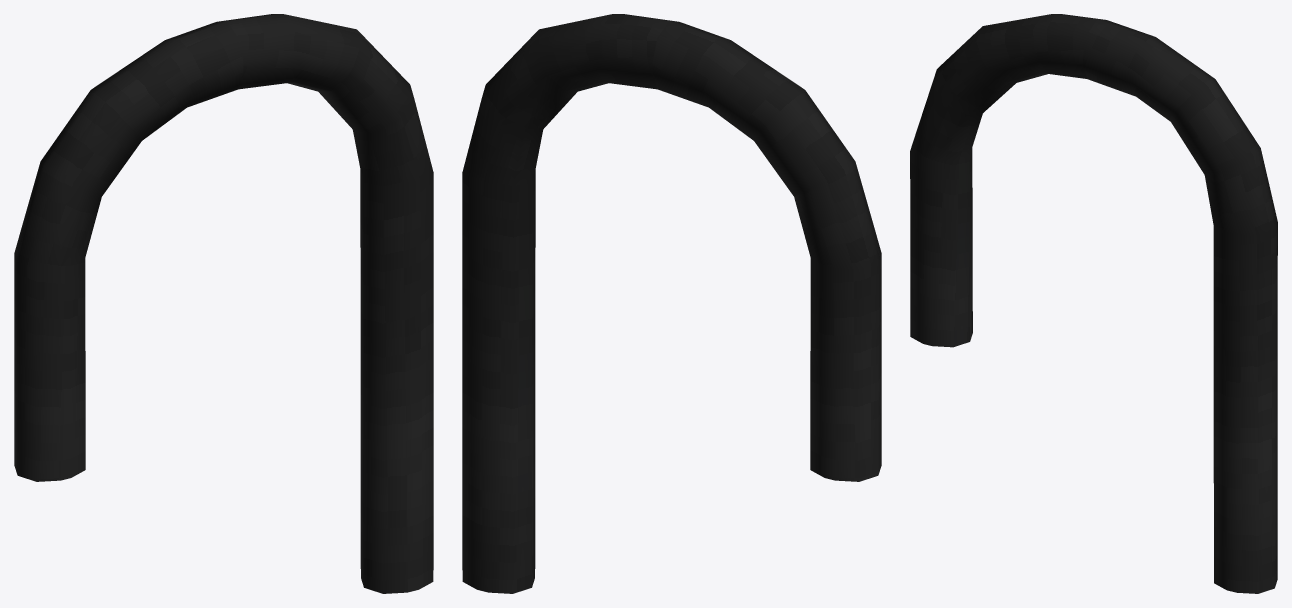
File: padlock_2_shackle.glb
The picture shows the model from 3 angles, left to right: view 1: azimuth 30°, elevation 25°; view 2: azimuth 150°, elevation 25°; view 3: azimuth 330°, elevation 25°; orthographic projection. The views are drawn at different scales.
Visible parts, largest first — view 1: padlock_2_shackle; view 2: padlock_2_shackle; view 3: padlock_2_shackle.
Boxes of the visible parts, x1,y1,x2,y2 form: padlock_2_shackle: (14, 14, 433, 593); padlock_2_shackle: (462, 14, 881, 593); padlock_2_shackle: (910, 14, 1277, 593).
Bounding box in the file's own units: 0.0686 × 0.0951 × 0.0091.
Materials: 1 (1 with a texture image).
